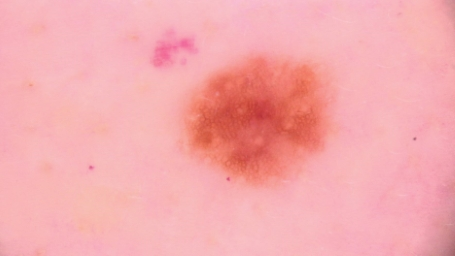nevus: (177, 57, 329, 191)
